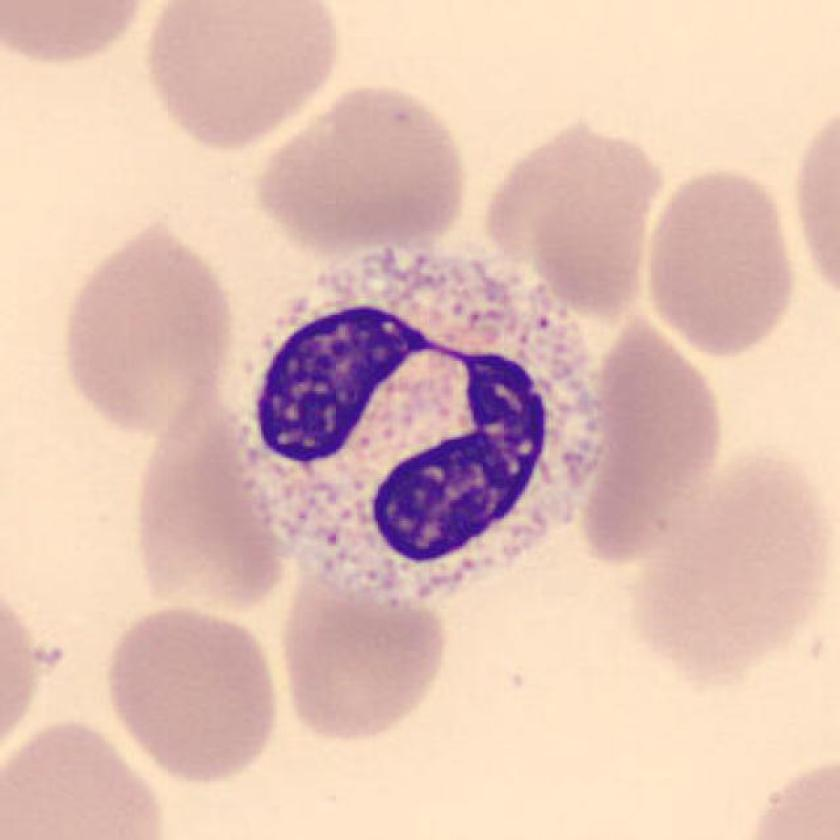neutrophil: (241, 252, 606, 605)
